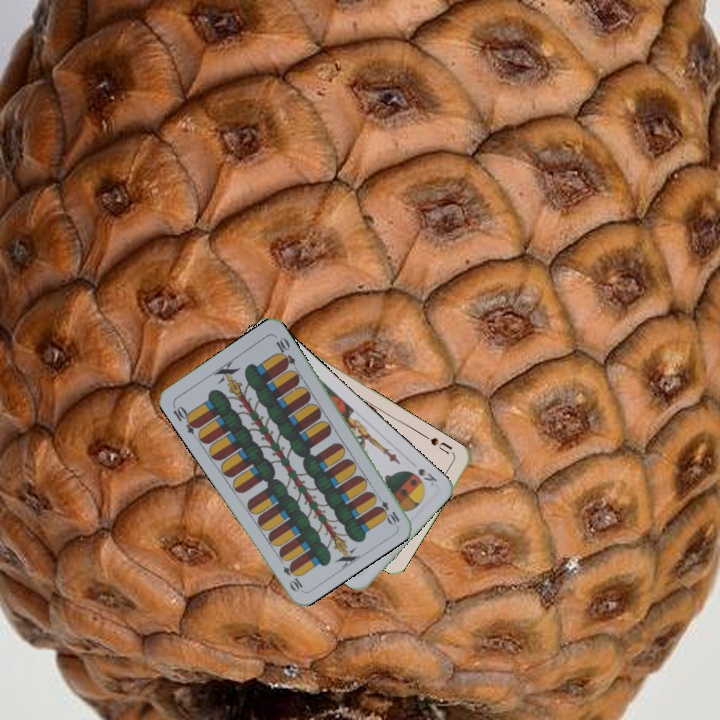E10: (169, 401, 201, 437), (371, 491, 402, 527)
SK: (414, 464, 440, 489)
SU: (420, 431, 457, 458)
